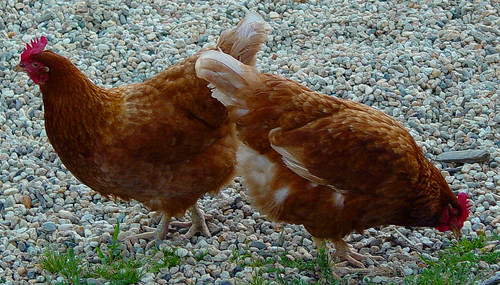chicken: (193, 45, 473, 256), (13, 35, 262, 230)
